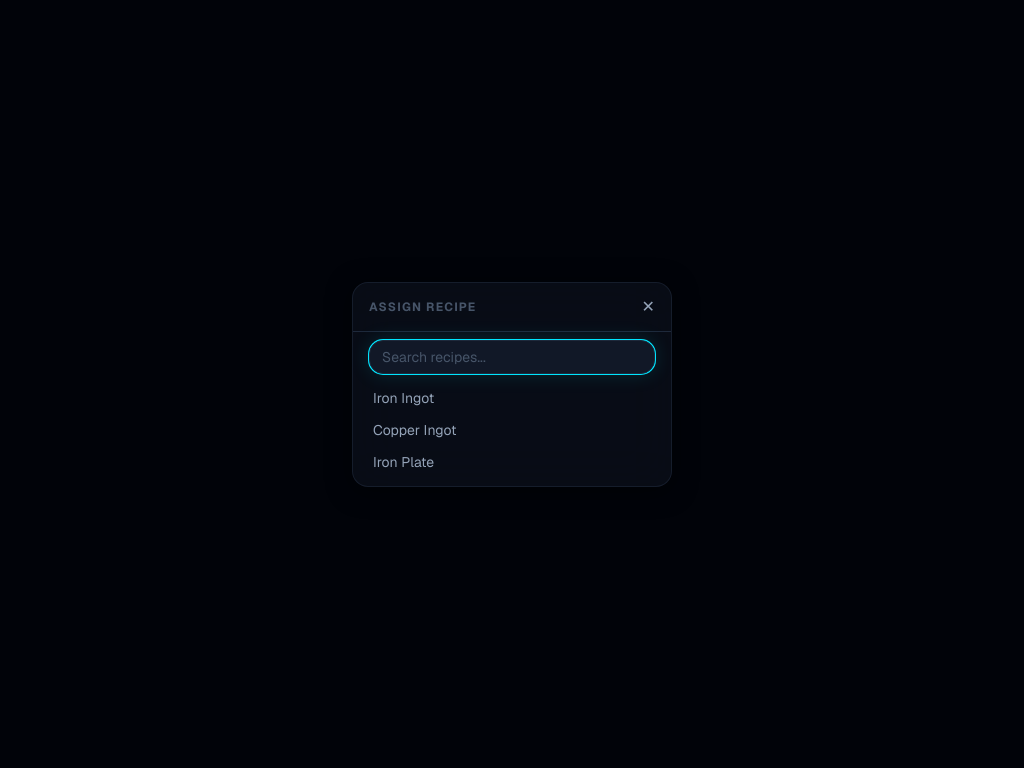
RecipeAssignDialog › filters by search text
In the field labelled "Search recipes": (512, 356) [369,340,655,374], type "copper"
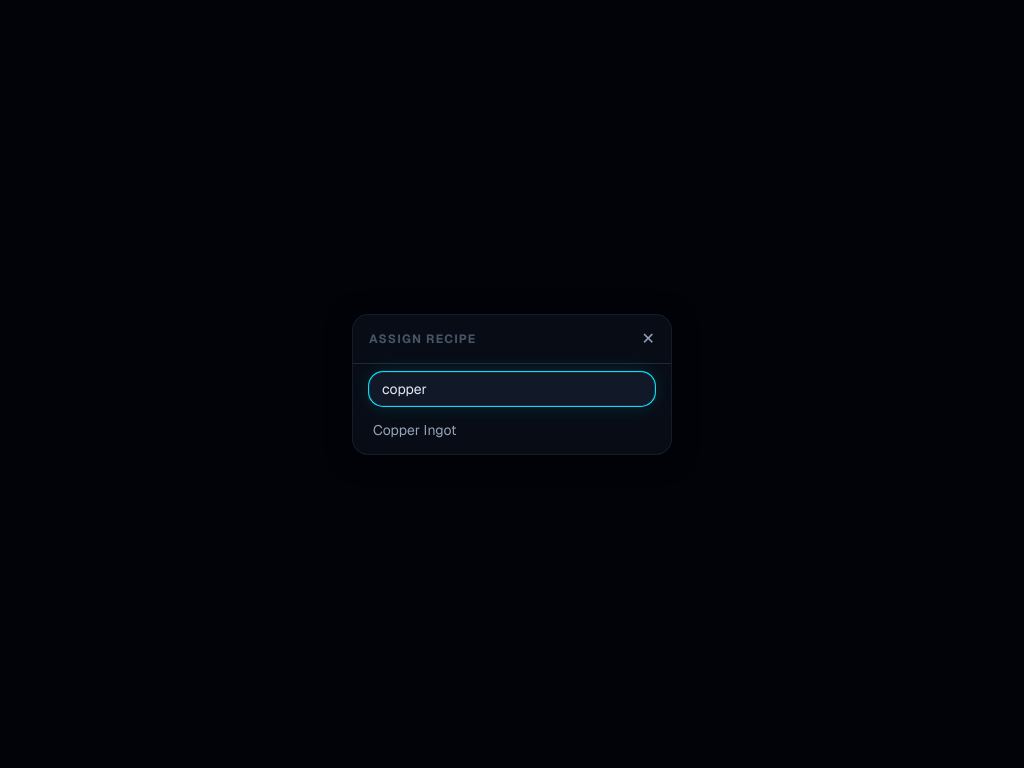
Expected: the option "Copper Ingot" is shown, [361,414,663,446]
Now the option "Iron Ingot" is gone
